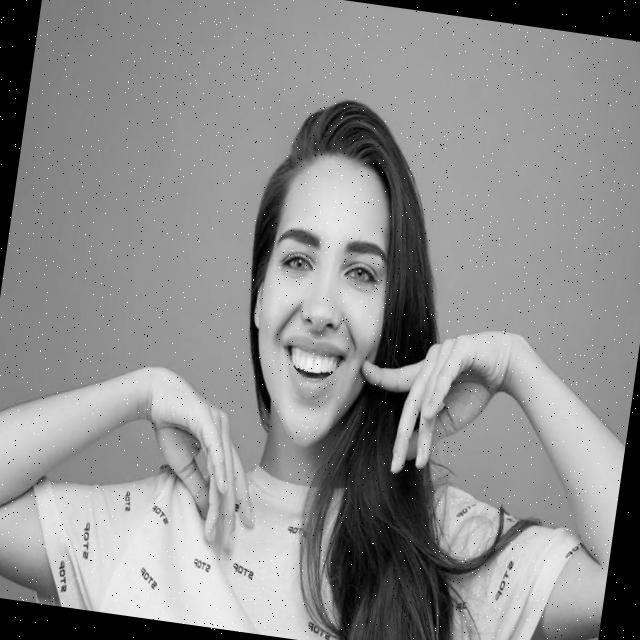Happiness: (238, 144, 410, 460)
